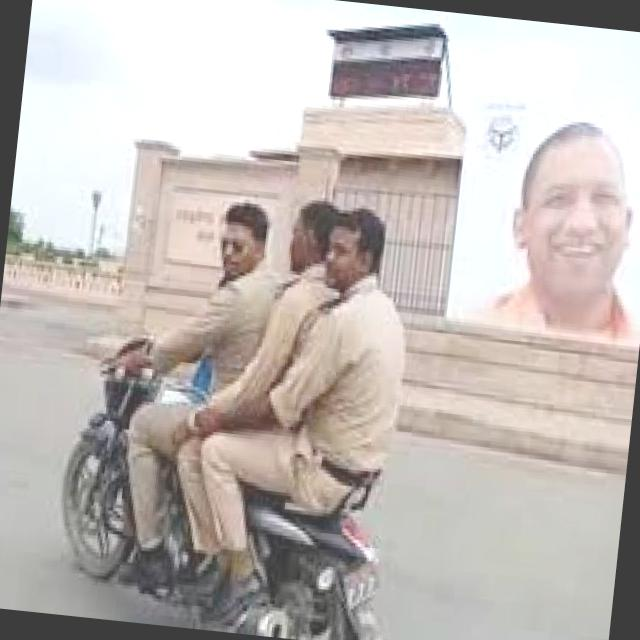motorcycle: (42, 328, 425, 640)
person: (270, 192, 430, 566), (160, 188, 307, 485), (250, 194, 360, 507)
rider_region: (38, 171, 439, 640)
